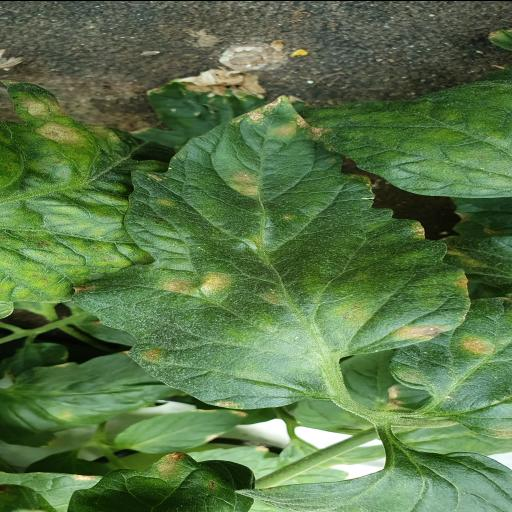Leaf Mold: (66, 92, 475, 408)
